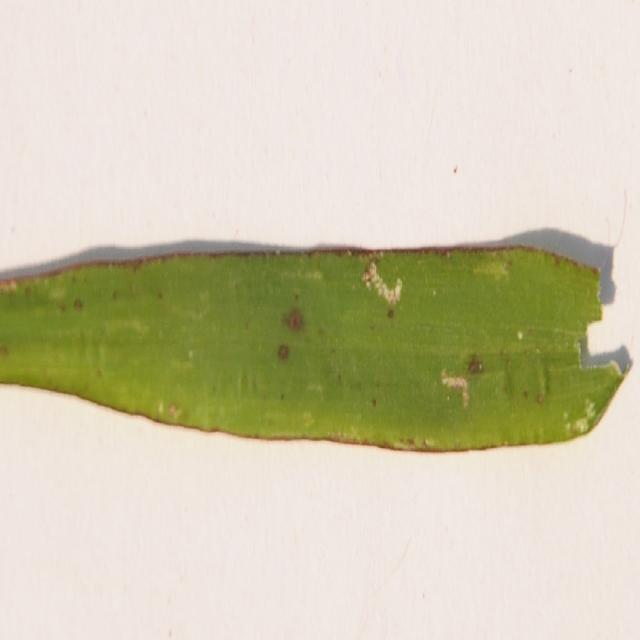Leafsmut: (472, 256, 511, 278), (440, 372, 470, 397), (378, 278, 402, 306), (573, 338, 588, 374), (283, 308, 303, 330), (466, 355, 484, 374), (620, 355, 634, 376), (48, 284, 66, 300), (584, 399, 597, 420), (196, 288, 213, 304), (460, 384, 471, 408), (302, 411, 316, 428), (305, 269, 324, 281), (551, 252, 567, 266), (277, 344, 290, 361), (397, 437, 418, 447), (3, 279, 18, 292), (129, 260, 143, 273), (72, 298, 84, 310), (575, 420, 587, 432), (363, 275, 372, 290), (168, 403, 178, 416), (423, 436, 436, 446), (536, 393, 545, 405), (0, 344, 9, 356), (173, 407, 182, 419), (157, 401, 165, 414), (58, 302, 67, 313), (386, 309, 395, 319), (156, 290, 164, 300), (112, 290, 120, 300), (562, 411, 570, 421), (500, 438, 510, 446), (187, 349, 194, 360), (516, 331, 524, 340), (345, 250, 354, 258), (336, 373, 342, 384), (274, 248, 282, 256), (293, 292, 300, 301), (445, 250, 452, 258), (371, 398, 377, 407), (523, 390, 529, 399), (96, 369, 102, 378), (431, 288, 437, 296), (280, 393, 286, 401), (446, 395, 451, 401)
